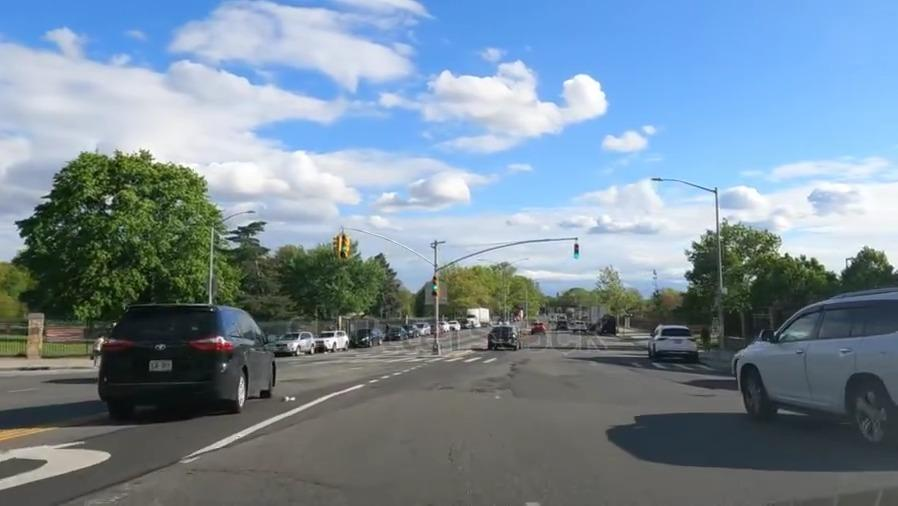car: (98, 293, 287, 415), (729, 303, 898, 431), (653, 321, 695, 361), (273, 330, 315, 356), (488, 323, 521, 349), (318, 328, 347, 352), (351, 325, 381, 347), (532, 320, 546, 335)
pedestrian: (287, 352, 716, 363)
person: (90, 333, 102, 365), (702, 324, 713, 348)
rubbish: (279, 394, 298, 405)
traffic light: (333, 229, 352, 259), (569, 237, 584, 263), (428, 272, 442, 299)
wheel: (843, 368, 892, 445), (734, 367, 774, 416), (229, 364, 251, 407)
